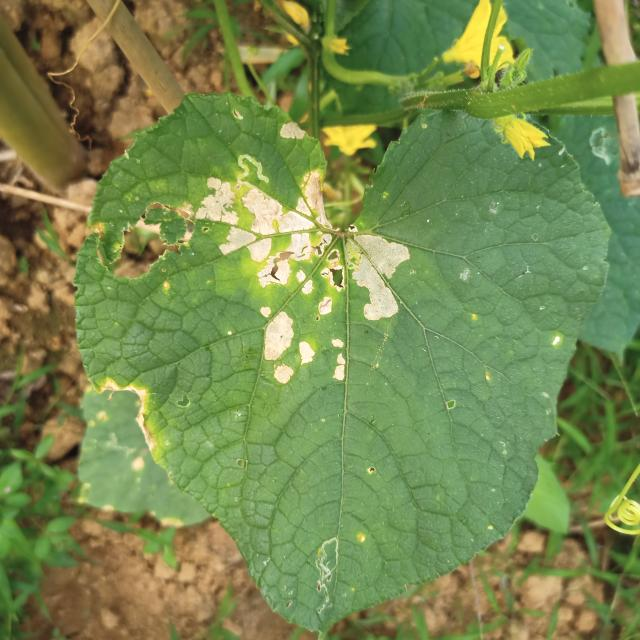disease_cucumber: (198, 168, 422, 392)
